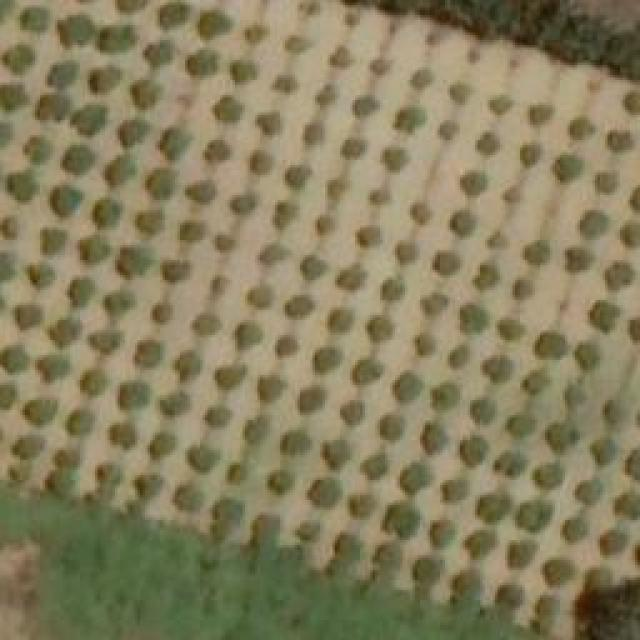Tree: (572, 580, 640, 640), (330, 530, 360, 575), (115, 245, 153, 280), (208, 500, 243, 538), (413, 558, 446, 598), (370, 543, 400, 586), (50, 182, 83, 220), (385, 503, 420, 538), (5, 170, 38, 205), (73, 103, 108, 136), (448, 570, 481, 605), (588, 298, 621, 333), (57, 145, 95, 175), (198, 8, 231, 41), (97, 25, 135, 53), (58, 15, 93, 45), (518, 500, 553, 530), (108, 420, 141, 450), (103, 290, 133, 323), (78, 235, 111, 265), (88, 63, 121, 93), (158, 0, 191, 30), (248, 515, 281, 545), (548, 423, 578, 456), (67, 275, 95, 310), (188, 50, 223, 78), (475, 492, 510, 520), (23, 397, 56, 425), (13, 432, 46, 460), (132, 338, 160, 371), (160, 390, 193, 418), (38, 92, 71, 120), (118, 117, 151, 145), (132, 78, 160, 111), (145, 37, 178, 65), (480, 355, 513, 383), (400, 463, 428, 496), (458, 302, 491, 330), (535, 330, 568, 358), (148, 430, 178, 460), (190, 443, 220, 473), (173, 480, 203, 510), (118, 380, 148, 410), (48, 318, 78, 348), (23, 135, 53, 165), (213, 95, 243, 125), (393, 373, 423, 403), (310, 478, 340, 508), (598, 528, 628, 558), (133, 472, 163, 500), (38, 355, 68, 383), (92, 198, 120, 228), (147, 168, 175, 198), (430, 382, 460, 410), (465, 532, 495, 560), (420, 290, 448, 320), (470, 262, 500, 290), (508, 540, 538, 568), (545, 557, 575, 585), (505, 412, 535, 440), (520, 370, 550, 398), (612, 490, 640, 520), (160, 128, 188, 158), (175, 350, 200, 383), (90, 330, 123, 355), (40, 225, 65, 258), (213, 365, 246, 390), (420, 420, 445, 453), (0, 82, 28, 110), (0, 345, 28, 373), (47, 57, 75, 85), (227, 57, 255, 85), (320, 442, 348, 470), (460, 437, 488, 465), (365, 315, 393, 343), (590, 437, 618, 465), (565, 245, 593, 273), (493, 453, 526, 476), (363, 450, 388, 480), (575, 340, 600, 370), (605, 260, 630, 290), (568, 115, 598, 140), (5, 45, 30, 73), (15, 302, 40, 330), (65, 407, 90, 435), (95, 460, 120, 488), (80, 367, 105, 395), (255, 113, 283, 138), (273, 200, 298, 228), (285, 295, 313, 320), (258, 375, 283, 403), (353, 357, 378, 385), (378, 412, 403, 440), (495, 583, 523, 608), (460, 170, 488, 195), (528, 102, 553, 130), (605, 130, 633, 155), (108, 157, 133, 185), (45, 473, 75, 496), (18, 8, 48, 31), (393, 108, 423, 131), (160, 260, 190, 283), (313, 348, 343, 371), (280, 433, 310, 456), (563, 380, 586, 410), (258, 243, 291, 263), (83, 488, 116, 508), (52, 448, 80, 471), (135, 210, 163, 233), (192, 313, 220, 336), (337, 265, 365, 288), (202, 405, 230, 428), (430, 520, 453, 548), (350, 495, 378, 518), (380, 275, 403, 303), (435, 250, 458, 278), (535, 463, 563, 486), (532, 593, 560, 616), (603, 397, 626, 425), (497, 318, 525, 341), (475, 130, 498, 158), (28, 263, 53, 288), (248, 150, 273, 175), (235, 323, 260, 348), (583, 210, 608, 235), (185, 183, 215, 203), (583, 568, 613, 588), (380, 148, 405, 171), (248, 285, 273, 308), (328, 308, 353, 331), (300, 388, 325, 411), (243, 418, 268, 441), (268, 470, 291, 495), (340, 400, 363, 425), (470, 400, 495, 423), (563, 518, 588, 541), (525, 238, 548, 263), (558, 155, 581, 180), (180, 220, 208, 240), (442, 480, 470, 500), (487, 95, 515, 115), (303, 255, 326, 278), (395, 240, 418, 263), (413, 333, 436, 356), (340, 140, 365, 160), (203, 140, 228, 160), (295, 523, 320, 543), (575, 480, 600, 500), (453, 210, 473, 235), (520, 143, 540, 168), (625, 448, 640, 481), (0, 215, 20, 238), (8, 463, 31, 483), (328, 45, 351, 65), (313, 85, 336, 105), (353, 98, 376, 118), (285, 168, 308, 188), (328, 178, 351, 198), (358, 228, 381, 248), (275, 338, 298, 358), (450, 345, 470, 368), (595, 170, 615, 193), (450, 83, 470, 106), (273, 75, 298, 93), (230, 195, 255, 213), (530, 620, 555, 638), (622, 90, 640, 115), (0, 382, 15, 410), (243, 25, 266, 43), (283, 35, 306, 53), (412, 68, 430, 91), (213, 232, 236, 250), (622, 223, 640, 246), (485, 230, 508, 248), (303, 123, 323, 143), (228, 463, 248, 483), (438, 120, 458, 140), (627, 315, 640, 345), (410, 205, 430, 223), (315, 215, 335, 233), (152, 305, 170, 325), (513, 280, 533, 298), (500, 185, 520, 203), (125, 500, 148, 515), (210, 275, 228, 293), (370, 60, 390, 75), (368, 190, 388, 205), (425, 30, 443, 45)
